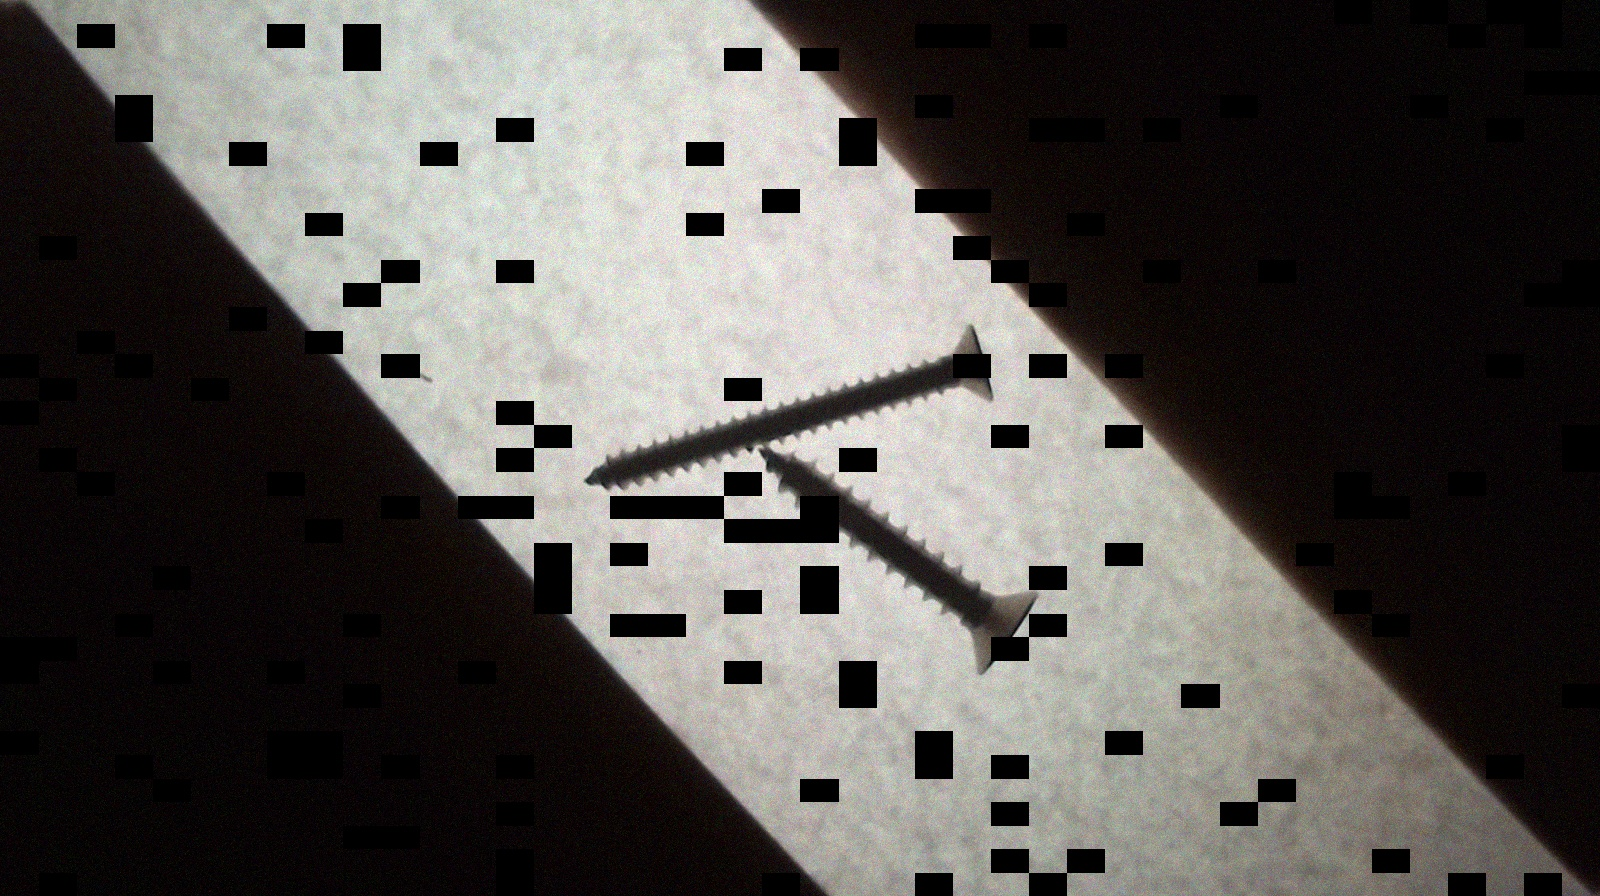S001: (758, 449, 1041, 676)
S002: (588, 322, 992, 491)
